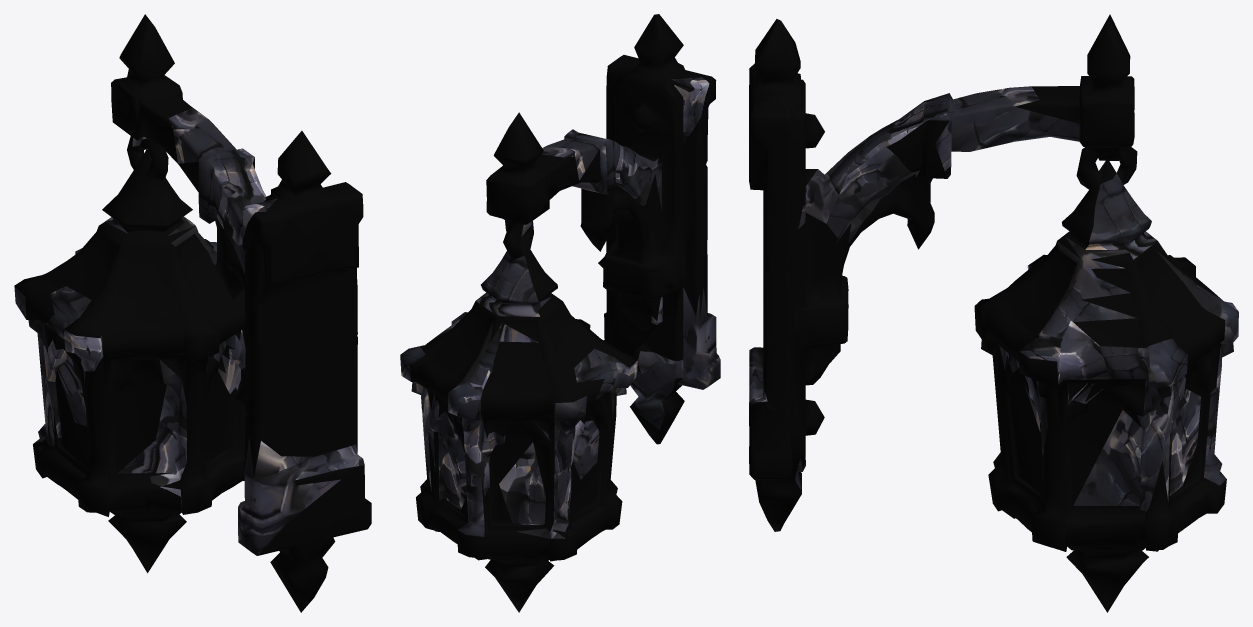
Rendered from RIP0 (2).obj.
The picture shows the model from 3 angles, left to right: view 1: azimuth 30°, elevation 25°; view 2: azimuth 150°, elevation 25°; view 3: azimuth 270°, elevation 25°; orthographic projection. The views are drawn at different scales.
Parts seen in each view (by area): view 1: RIP0; view 2: RIP0; view 3: RIP0.
Part boxes in pixels (x1,y1,x2,y2): RIP0: (14,14,371,612); RIP0: (400,14,720,612); RIP0: (749,14,1238,612).
Bounding box in the file's own units: 0.3863 × 1 × 0.7419.
